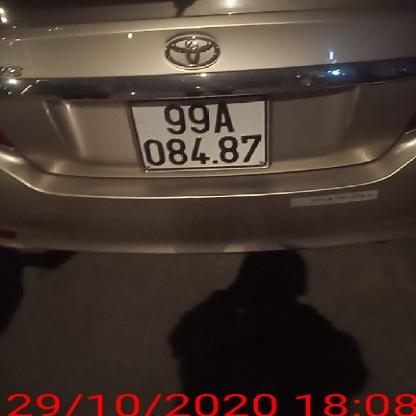biensoxe: (128, 93, 275, 174)
